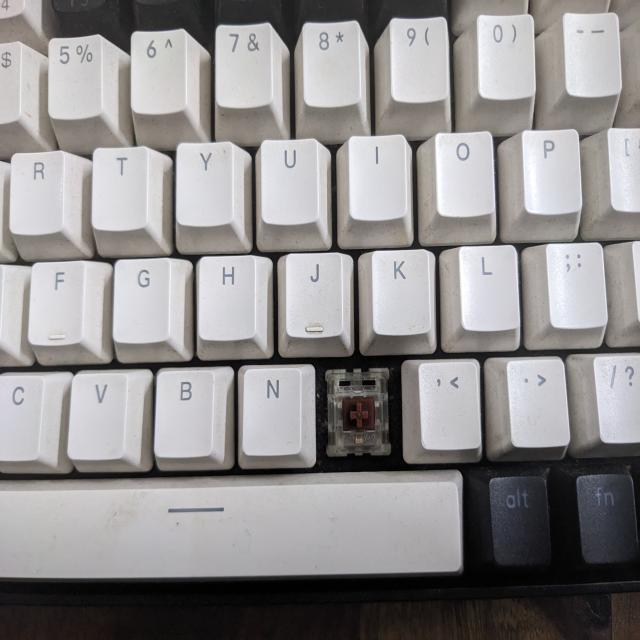C: (324, 368, 393, 462)
